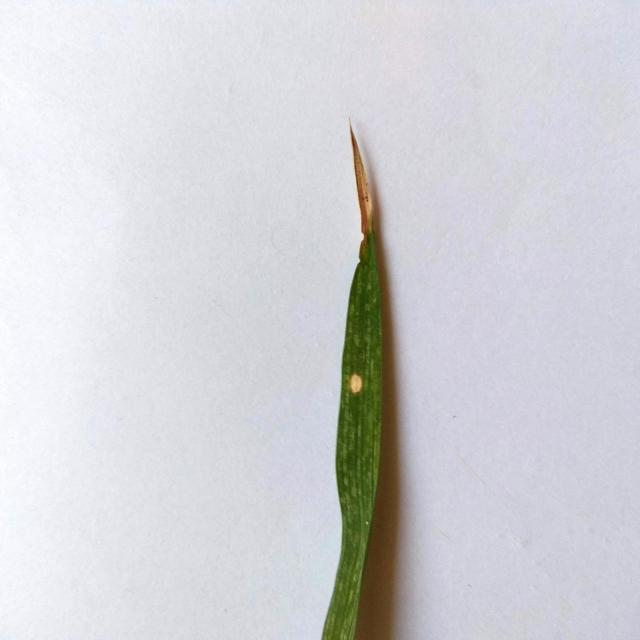Leaf_Blast: (340, 356, 375, 404)
